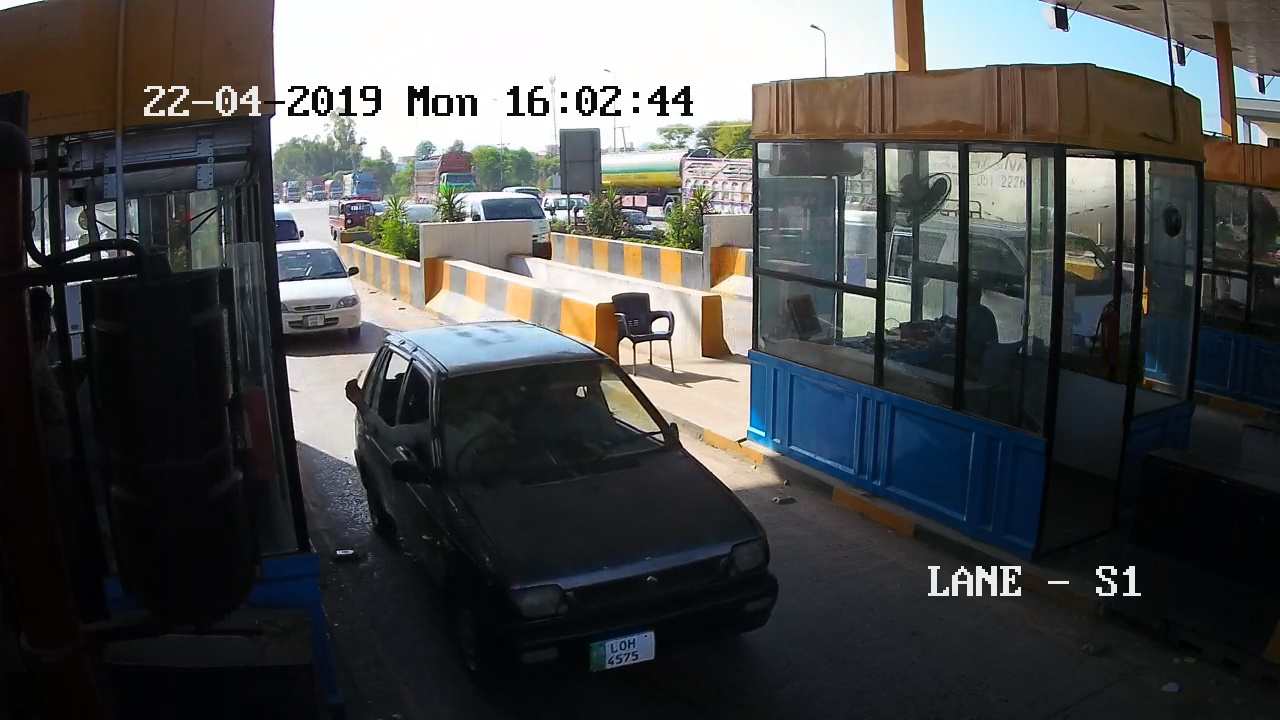car: (360, 339, 790, 720), (271, 246, 360, 337)
